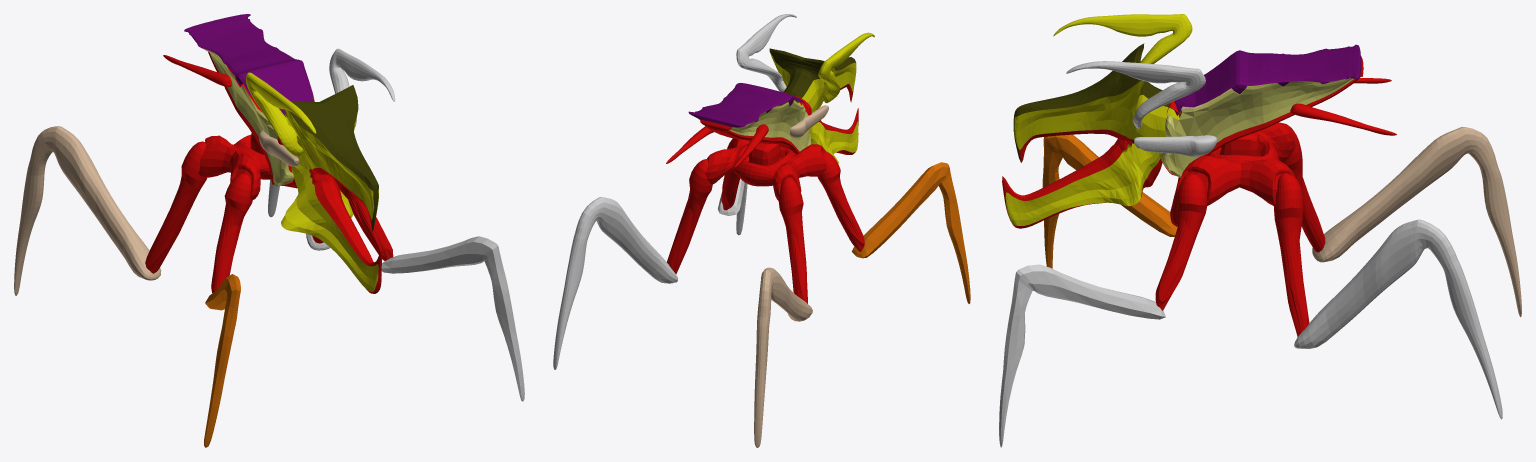
The model's file is aracnido_000025.obj.
3 renders of one model, left to right at view 1: azimuth 30°, elevation 25°; view 2: azimuth 150°, elevation 25°; view 3: azimuth 270°, elevation 25°, orthographic. The views are drawn at different scales.
Visible parts, largest first — view 1: ARAK-BODY-; view 2: ARAK-BODY-; view 3: ARAK-BODY-.
Part boxes in pixels (x1,y1,x2,y2): ARAK-BODY-: [14, 14, 524, 447]; ARAK-BODY-: [553, 14, 970, 447]; ARAK-BODY-: [999, 14, 1521, 447].
Size of the model in its own units: 2.64 by 2.73 by 3.76.
